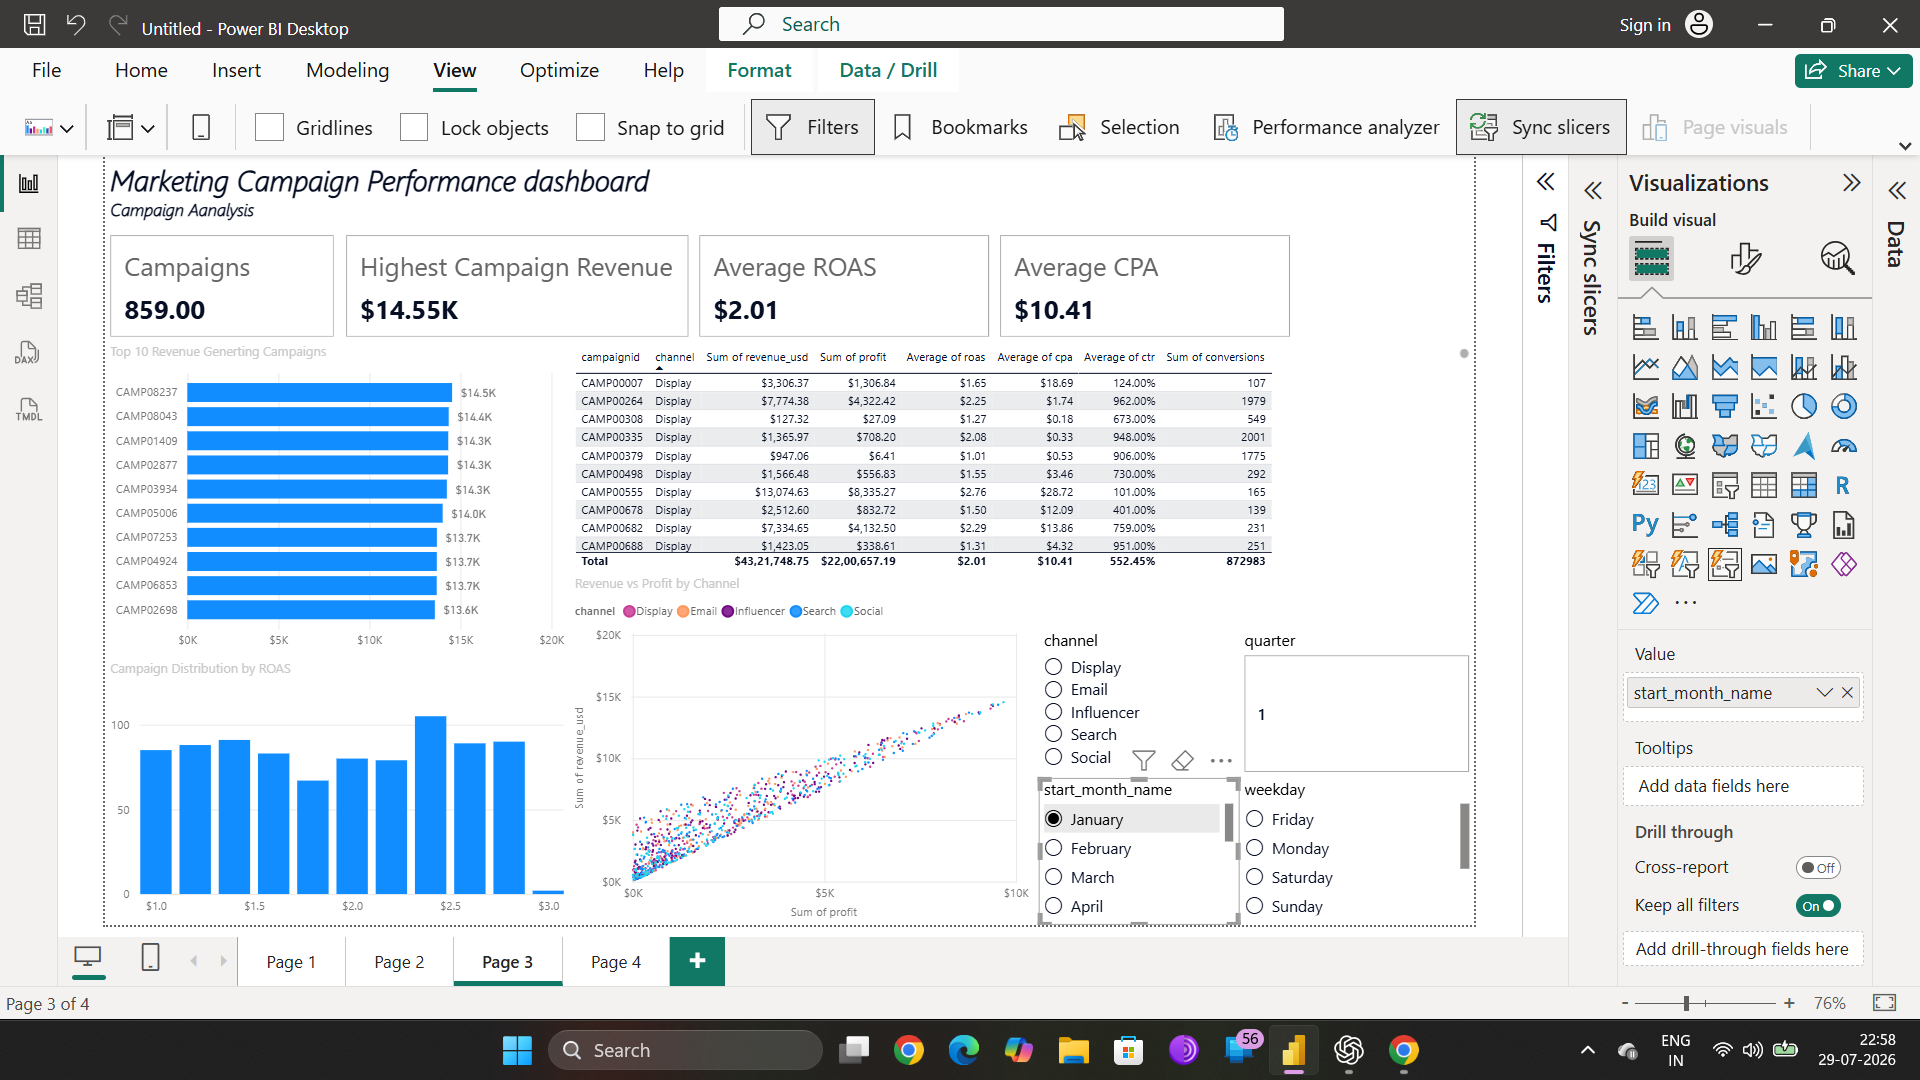

The dashboard page shown, as its layout file describes it:
{"tool":"powerbi","page":{"name":"Page 3","canvas":[1280,720],"ordinal":2},"visuals":[{"type":"cardVisual","fields":{"Data":["Count(marketing_campaign_engineered.campaignid)"]},"box":[0,70.6,220,105.1],"z":0},{"type":"cardVisual","fields":{"Data":["Avg(marketing_campaign_engineered.roas)"]},"box":[550.8,70,281.3,105.7],"z":1000},{"type":"cardVisual","fields":{"Data":["Avg(marketing_campaign_engineered.cpa)"]},"box":[832.1,70,281.3,105.7],"z":2000},{"type":"cardVisual","fields":{"Data":["Max(marketing_campaign_engineered.revenue_usd)"]},"box":[220.6,70,330.2,105.7],"z":3000},{"type":"textbox","box":[0,0,1279.8,70.6],"z":4000},{"type":"clusteredBarChart","title":"Top 10 Revenue Generting Campaigns","fields":{"Y":["Sum(marketing_campaign_engineered.revenue_usd)"],"Category":["marketing_campaign_engineered.campaignid"]},"box":[0,175.8,434.5,295.8],"z":5000},{"type":"scatterChart","title":"Revenue vs Profit by Channel","fields":{"X":["Sum(marketing_campaign_engineered.profit)"],"Y":["Sum(marketing_campaign_engineered.revenue_usd)"],"Series":["marketing_campaign_engineered.channel"],"Category":["marketing_campaign_engineered.campaignid"]},"box":[434.3,392.9,434.3,327.1],"z":6000},{"type":"clusteredColumnChart","title":"Campaign Distribution by ROAS","fields":{"Y":["CountNonNull(marketing_campaign_engineered.campaignid)"],"Category":["marketing_campaign_engineered.roas (bins)"]},"box":[0,471.4,434.3,248.6],"z":7000},{"type":"tableEx","fields":{"Values":["marketing_campaign_engineered.campaignid","marketing_campaign_engineered.channel","Sum(marketing_campaign_engineered.revenue_usd)","Sum(marketing_campaign_engineered.profit)","Avg(marketing_campaign_engineered.roas)","Avg(marketing_campaign_engineered.cpa)","Avg(marketing_campaign_engineered.ctr)","Sum(marketing_campaign_engineered.conversions)"]},"box":[434.3,175.7,845.7,217.1],"z":8000},{"type":"advancedSlicerVisual","fields":{"Values":["marketing_campaign_engineered.quarter"]},"box":[1060,444.3,220,138.6],"z":8001},{"type":"listSlicer","fields":{"Values":["marketing_campaign_engineered.channel"]},"box":[872.9,444.3,187.1,138.6],"z":8002},{"type":"listSlicer","fields":{"Values":["marketing_campaign_engineered.start_month_name"]},"box":[872.9,582.9,187.1,137.1],"z":8003},{"type":"listSlicer","fields":{"Values":["marketing_campaign_engineered.weekday"]},"box":[1060,582.9,220,137.1],"z":8004}]}

Visuals, with their boxes on the page's 1280x720 design canvas (x1, y1, x2, y2). These are canvas units, not pixel positions in the 1920x1080 screenshot, which may show the page scaled, cropped or inside an application window:
cardVisual - Count(marketing_campaign_engineered.campaignid): bbox=[0, 71, 220, 176]
cardVisual - Avg(marketing_campaign_engineered.roas): bbox=[551, 70, 832, 176]
cardVisual - Avg(marketing_campaign_engineered.cpa): bbox=[832, 70, 1113, 176]
cardVisual - Max(marketing_campaign_engineered.revenue_usd): bbox=[221, 70, 551, 176]
textbox: bbox=[0, 0, 1280, 71]
"Top 10 Revenue Generting Campaigns" clusteredBarChart: bbox=[0, 176, 434, 472]
"Revenue vs Profit by Channel" scatterChart: bbox=[434, 393, 869, 720]
"Campaign Distribution by ROAS" clusteredColumnChart: bbox=[0, 471, 434, 720]
tableEx - marketing_campaign_engineered.campaignid x marketing_campaign_engineered.channel: bbox=[434, 176, 1280, 393]
advancedSlicerVisual - marketing_campaign_engineered.quarter: bbox=[1060, 444, 1280, 583]
listSlicer - marketing_campaign_engineered.channel: bbox=[873, 444, 1060, 583]
listSlicer - marketing_campaign_engineered.start_month_name: bbox=[873, 583, 1060, 720]
listSlicer - marketing_campaign_engineered.weekday: bbox=[1060, 583, 1280, 720]
